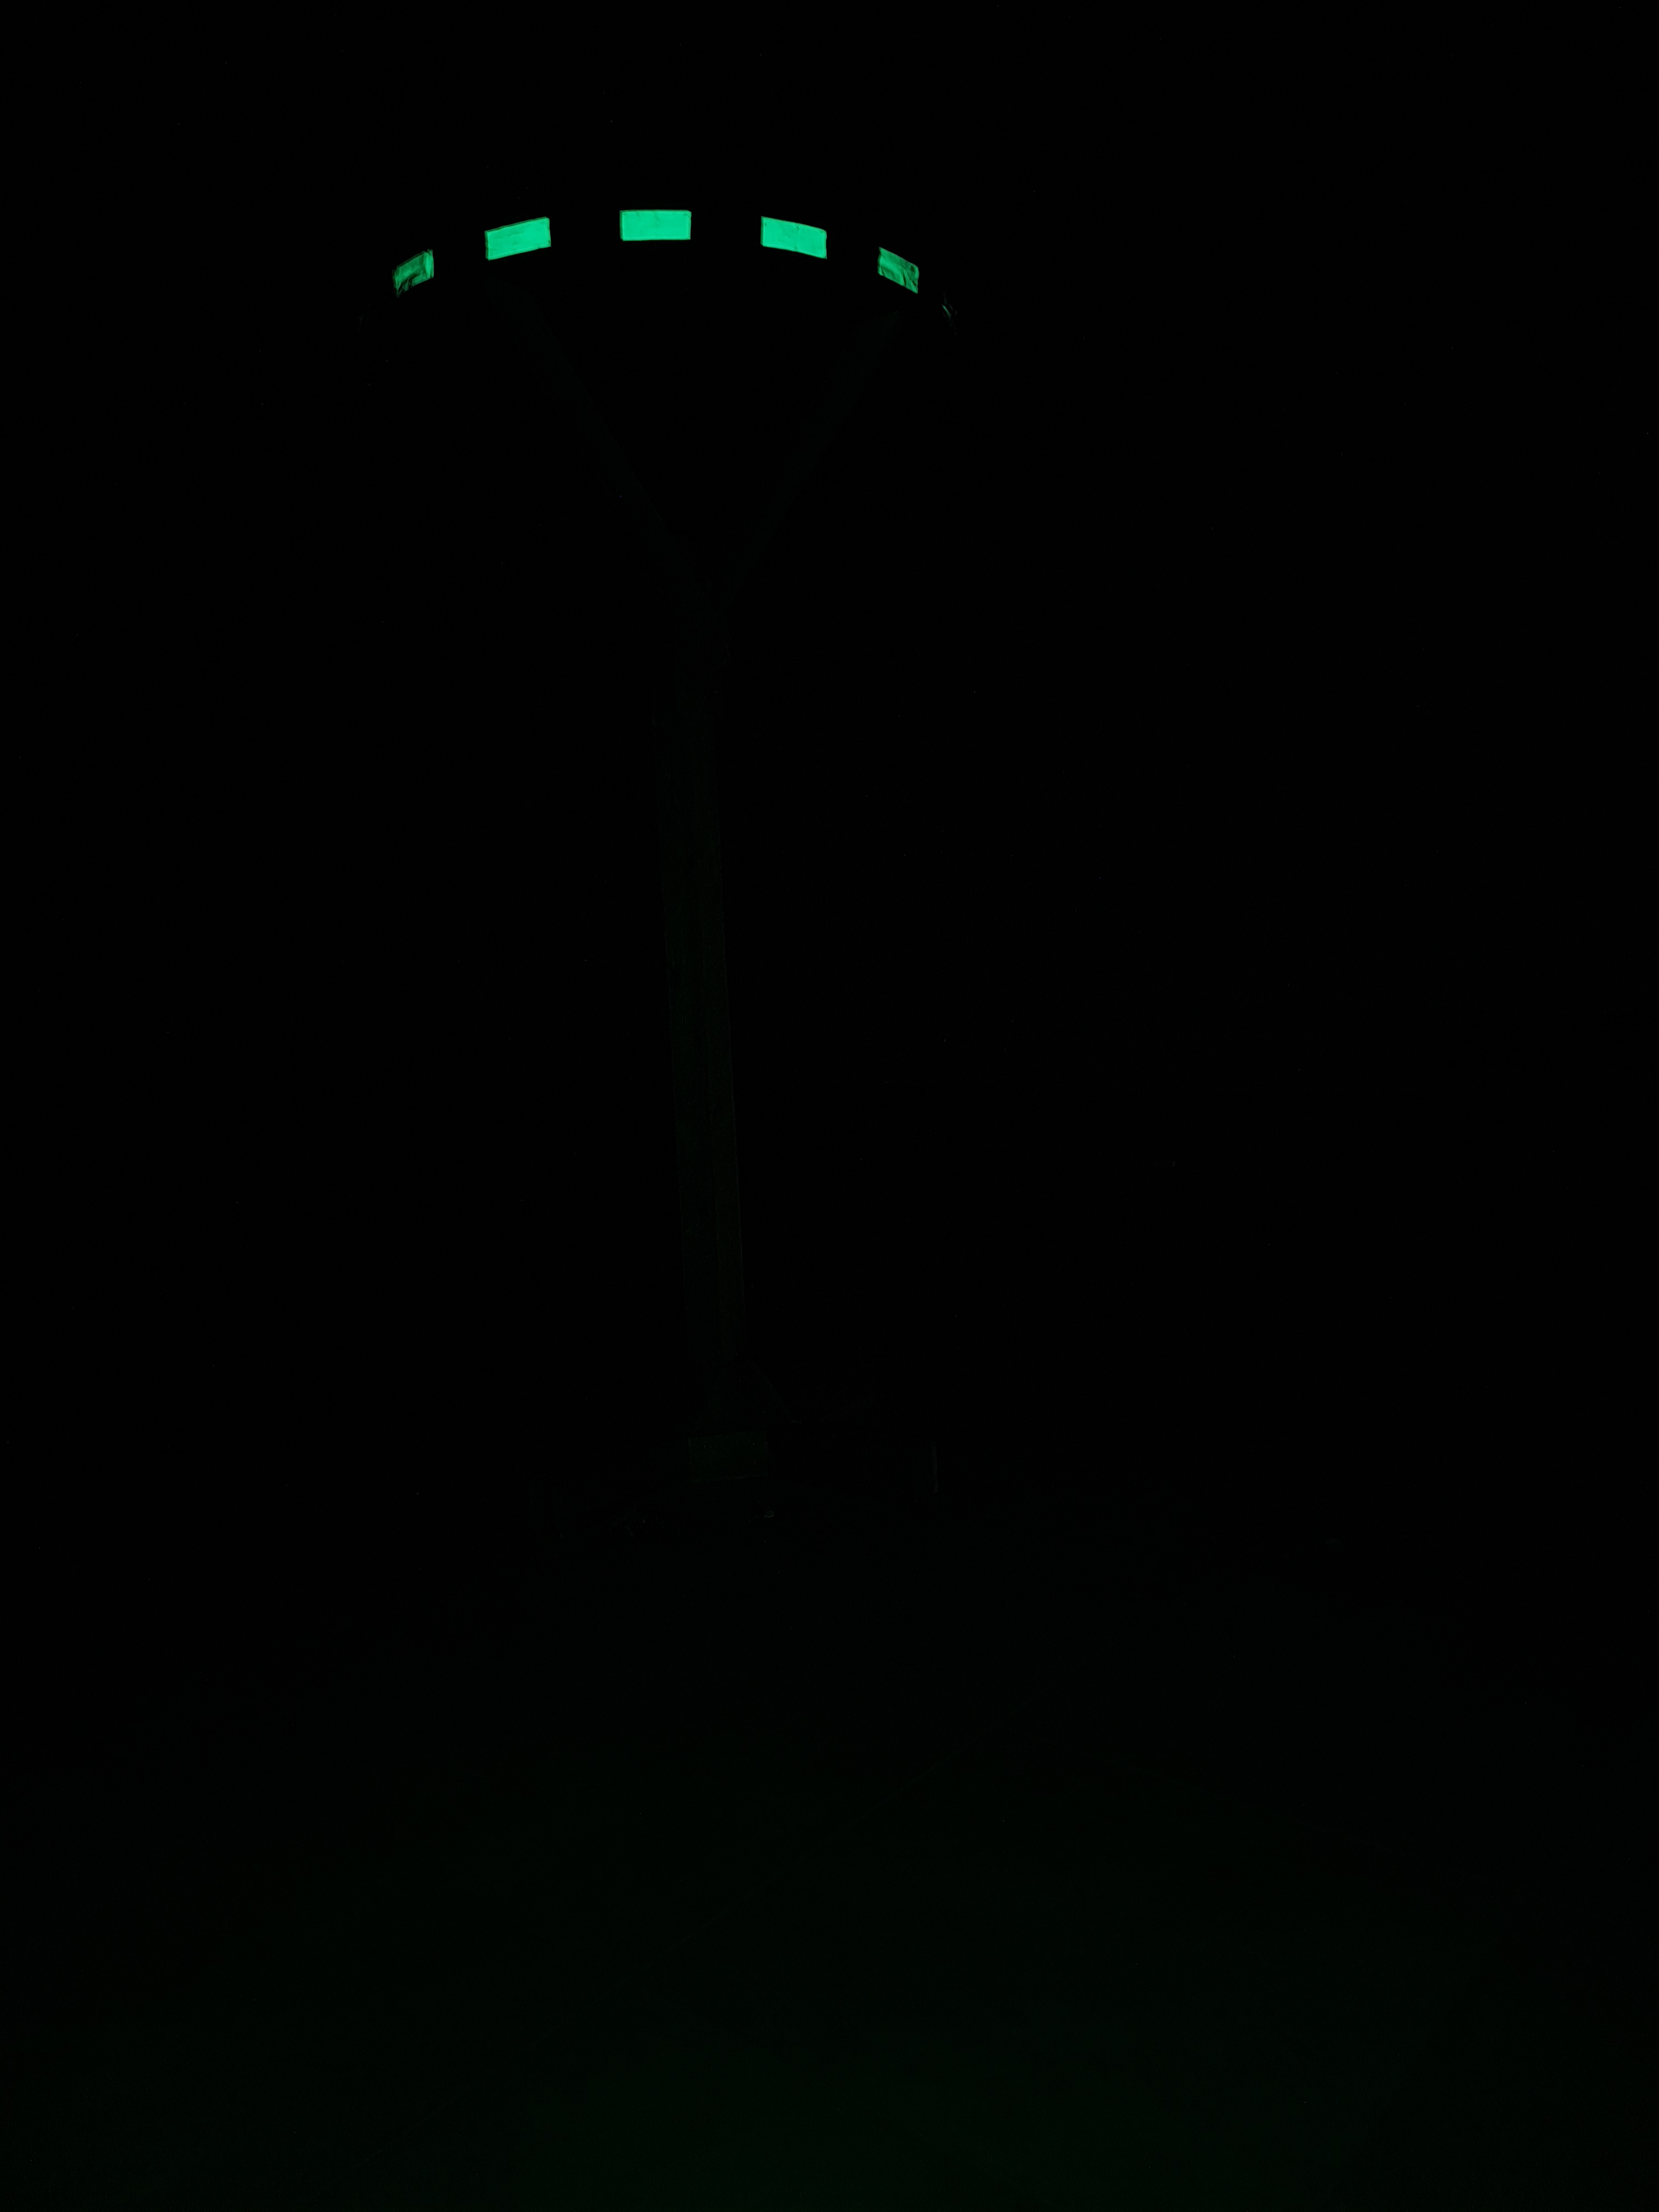hoop: (389, 199, 925, 303)
